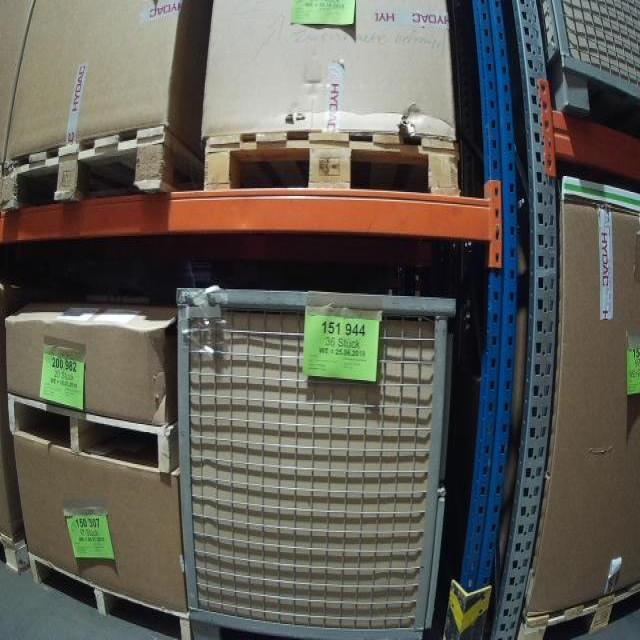pallet: (201, 129, 463, 200), (0, 124, 195, 210), (3, 395, 181, 473), (26, 558, 192, 640), (517, 581, 640, 640)
stillage: (170, 272, 458, 640), (534, 2, 640, 124)
